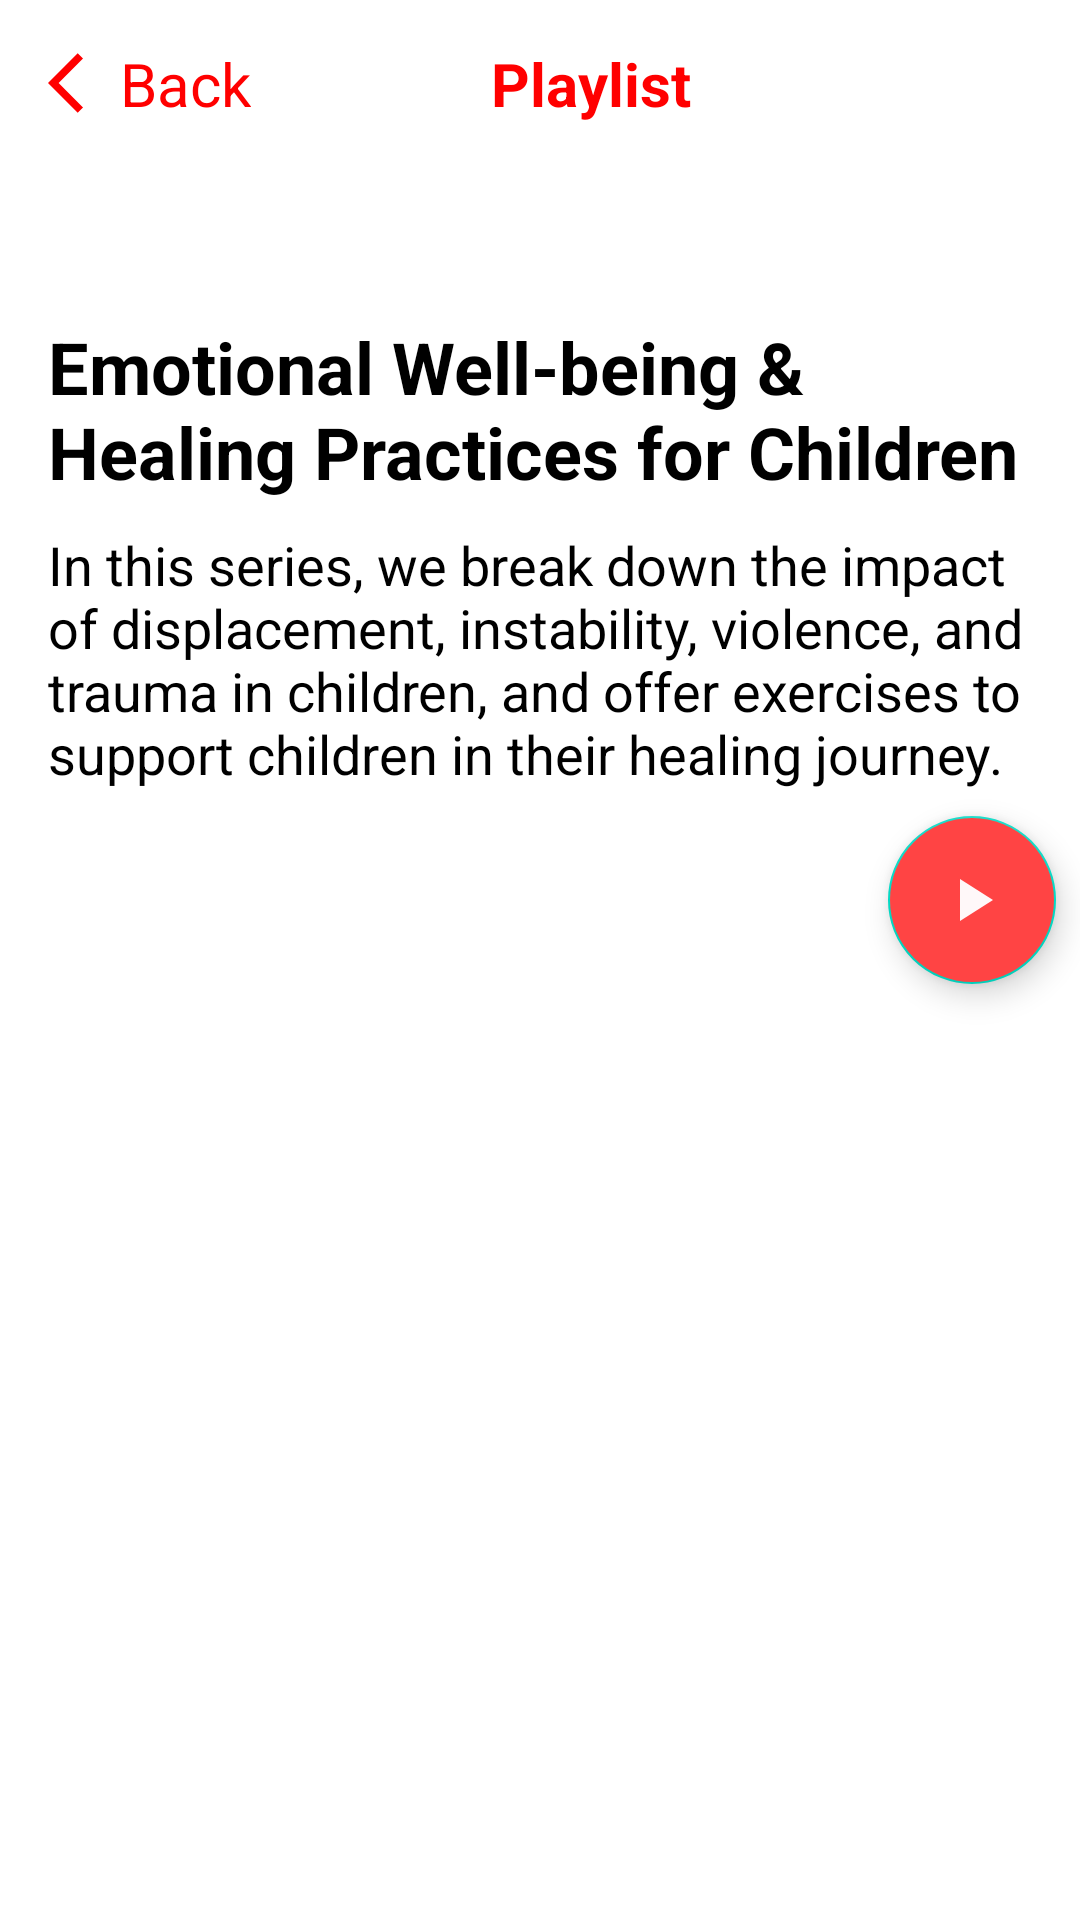

Point at icon controls on the screen. Image size 1080×1920, points as (x=x, y=y).
play: (x=972, y=900)
